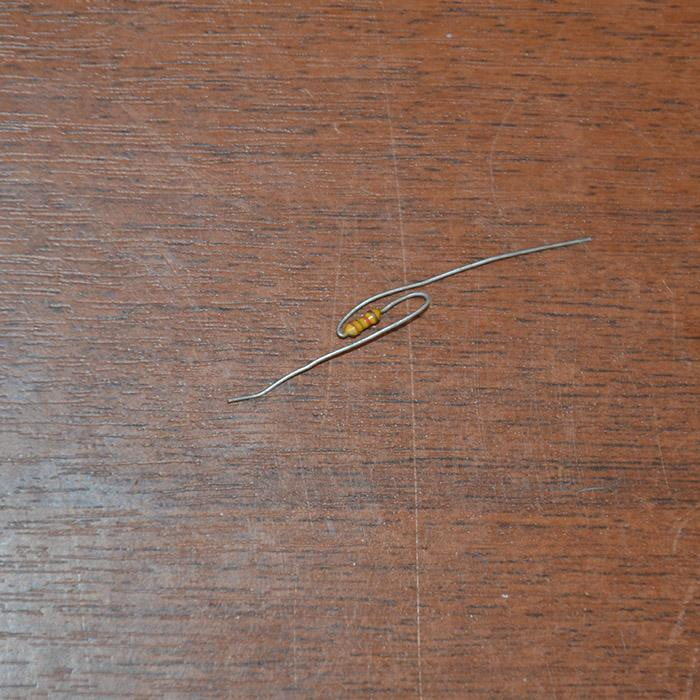resistor: (342, 308, 382, 338)
